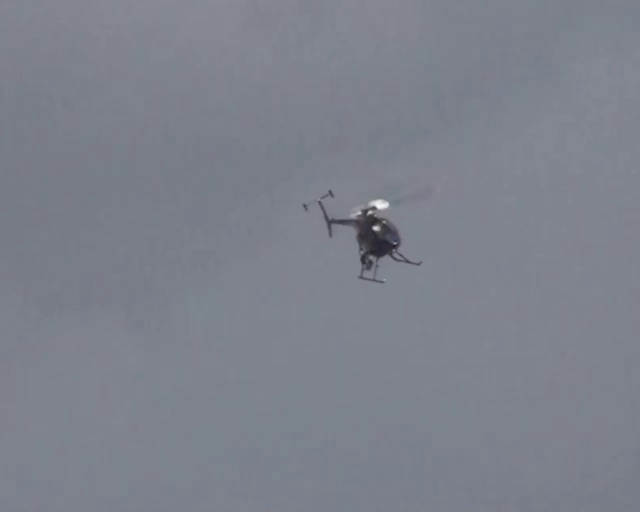HELICOPTER: (302, 188, 423, 283)
